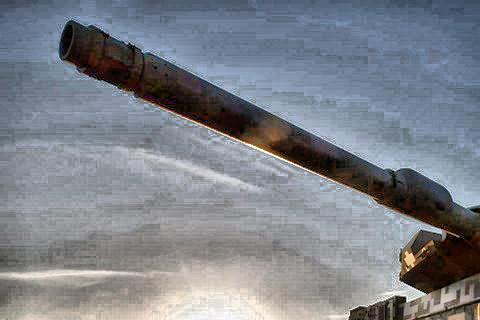tanks: (61, 24, 480, 320)
